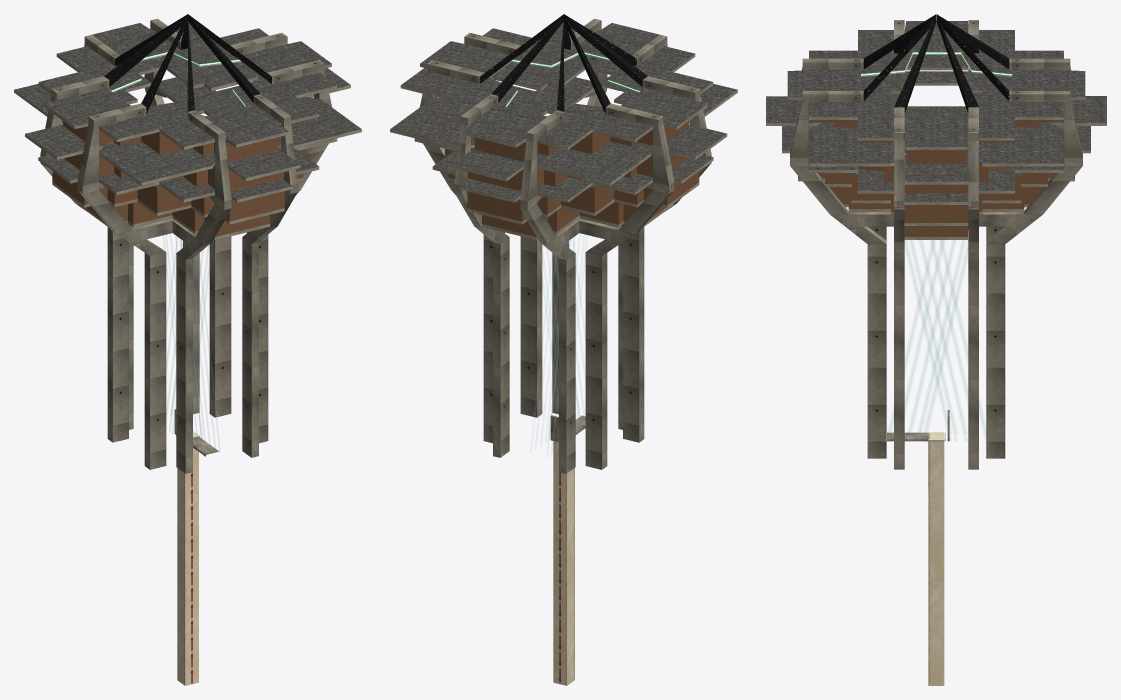
The model's file is entity15364.gltf.
3 views of the same model, side by side, from view 1: azimuth 30°, elevation 25°; view 2: azimuth 150°, elevation 25°; view 3: azimuth 270°, elevation 25° (orthographic).
Visible parts, largest first — view 1: node_Exhibit_Str_Tower_3_Art, node_Exhibit_Str_Tower_3_Floor_5, node_Exhibit_Str_Tower_3_Floor_4, node_Exhibit_Str_Tower_3_Glass, node_Exhibit_Str_Tower_3_Floor_3, node_Elevator_Machine, node_Elevator_Glasswall, node_Exhibit_Str_Tower_3_Floor_2, node_Exhibit_Str_Tower_3_Floor_1; view 2: node_Exhibit_Str_Tower_3_Art, node_Exhibit_Str_Tower_3_Floor_5, node_Exhibit_Str_Tower_3_Floor_4, node_Exhibit_Str_Tower_3_Glass, node_Exhibit_Str_Tower_3_Floor_3, node_Elevator_Machine, node_Elevator_Glasswall, node_Exhibit_Str_Tower_3_Floor_2, node_Exhibit_Str_Tower_3_Floor_1; view 3: node_Exhibit_Str_Tower_3_Art, node_Exhibit_Str_Tower_3_Floor_5, node_Exhibit_Str_Tower_3_Floor_4, node_Exhibit_Str_Tower_3_Glass, node_Exhibit_Str_Tower_3_Floor_3, node_Elevator_Machine, node_Elevator_Glasswall, node_Exhibit_Str_Tower_3_Floor_2, node_Exhibit_Str_Tower_3_Floor_1.
Part boxes in pixels (left/top/right/bottom): node_Exhibit_Str_Tower_3_Art: left=40, top=14, right=331, bottom=473; node_Exhibit_Str_Tower_3_Floor_5: left=38, top=22, right=337, bottom=149; node_Exhibit_Str_Tower_3_Floor_4: left=14, top=55, right=361, bottom=185; node_Exhibit_Str_Tower_3_Glass: left=52, top=121, right=306, bottom=236; node_Exhibit_Str_Tower_3_Floor_3: left=38, top=75, right=337, bottom=202; node_Elevator_Machine: left=177, top=432, right=198, bottom=685; node_Elevator_Glasswall: left=169, top=237, right=205, bottom=438; node_Exhibit_Str_Tower_3_Floor_2: left=52, top=149, right=303, bottom=224; node_Exhibit_Str_Tower_3_Floor_1: left=78, top=165, right=269, bottom=239; node_Exhibit_Str_Tower_3_Art: left=420, top=14, right=711, bottom=473; node_Exhibit_Str_Tower_3_Floor_5: left=414, top=22, right=713, bottom=149; node_Exhibit_Str_Tower_3_Floor_4: left=390, top=55, right=737, bottom=185; node_Exhibit_Str_Tower_3_Glass: left=445, top=121, right=699, bottom=236; node_Exhibit_Str_Tower_3_Floor_3: left=414, top=75, right=713, bottom=202; node_Elevator_Machine: left=553, top=441, right=574, bottom=685; node_Elevator_Glasswall: left=545, top=237, right=581, bottom=440; node_Exhibit_Str_Tower_3_Floor_2: left=448, top=148, right=699, bottom=224; node_Exhibit_Str_Tower_3_Floor_1: left=482, top=165, right=673, bottom=239; node_Exhibit_Str_Tower_3_Art: left=790, top=14, right=1082, bottom=469; node_Exhibit_Str_Tower_3_Floor_5: left=787, top=21, right=1085, bottom=149; node_Exhibit_Str_Tower_3_Floor_4: left=766, top=55, right=1106, bottom=184; node_Exhibit_Str_Tower_3_Glass: left=798, top=120, right=1074, bottom=236; node_Exhibit_Str_Tower_3_Floor_3: left=782, top=71, right=1090, bottom=204; node_Elevator_Machine: left=928, top=433, right=944, bottom=685; node_Elevator_Glasswall: left=889, top=240, right=985, bottom=433; node_Exhibit_Str_Tower_3_Floor_2: left=798, top=106, right=1074, bottom=225; node_Exhibit_Str_Tower_3_Floor_1: left=843, top=154, right=1029, bottom=239.
Size of what is drawn, in the model's own units: 32.15 by 69.66 by 32.19.
5 materials, 4 textured.
